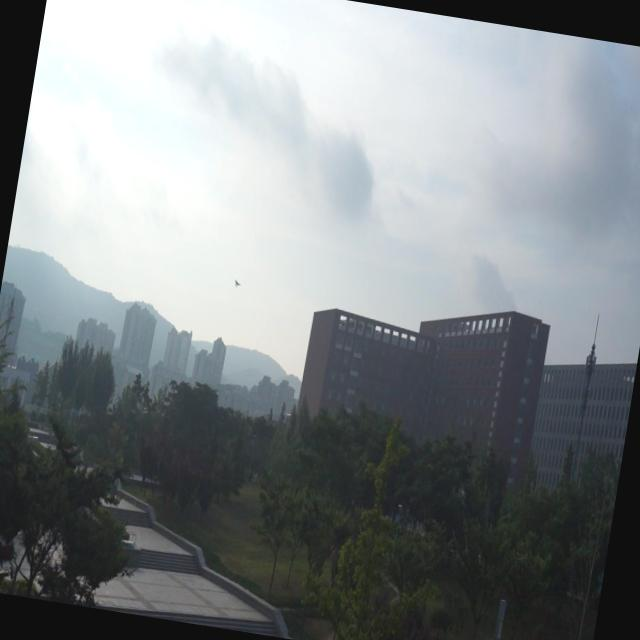drone: (232, 276, 243, 288)
